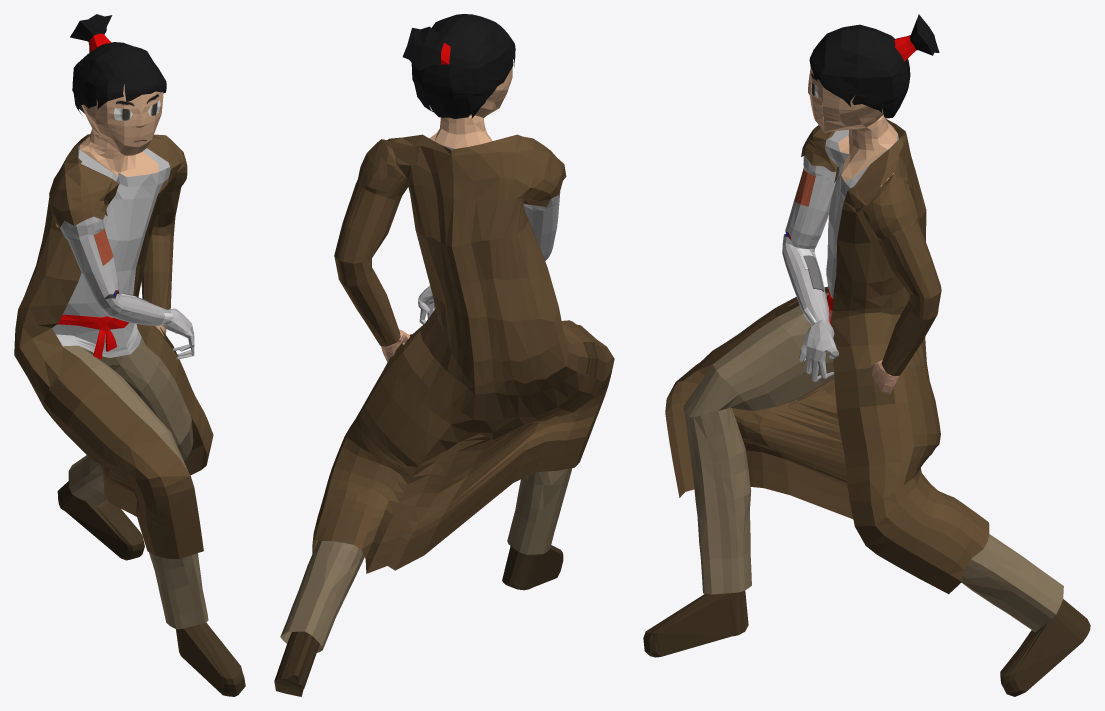
File: One_DR_000005.obj
3 renders of one model, left to right at view 1: azimuth 30°, elevation 25°; view 2: azimuth 150°, elevation 25°; view 3: azimuth 270°, elevation 25°, orthographic. The views are drawn at different scales.
Parts seen in each view (by area): view 1: Hair_Cube.004; view 2: Hair_Cube.004; view 3: Hair_Cube.004.
Part boxes in pixels (x1,y1,x2,y2): Hair_Cube.004: (14, 14, 245, 696); Hair_Cube.004: (274, 14, 614, 696); Hair_Cube.004: (643, 14, 1090, 696).
Size of the model in its own units: 1.25 by 3.54 by 2.26.
